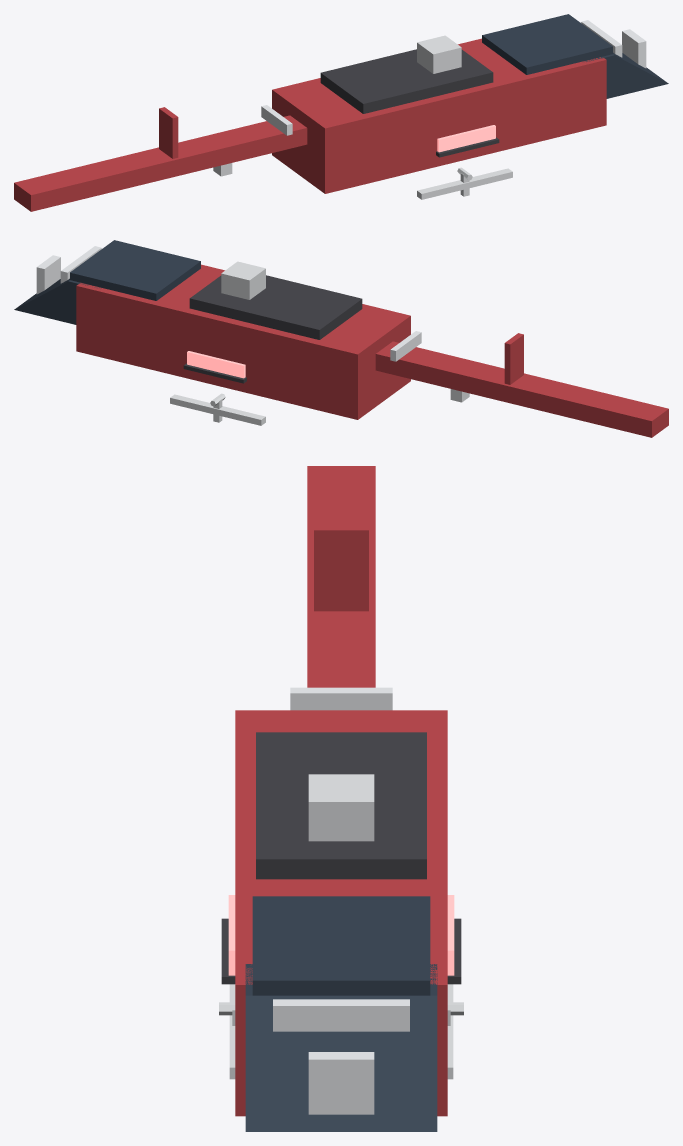
The model's file is SM_Veh_PoliceHeli.fbx.
The picture shows the model from 3 angles, top to bottom: view 1: azimuth 30°, elevation 25°; view 2: azimuth 150°, elevation 25°; view 3: azimuth 270°, elevation 25°; orthographic projection. The views are drawn at different scales.
Parts seen in each view (by area): view 1: SM_Veh_PoliceHeli; view 2: SM_Veh_PoliceHeli; view 3: SM_Veh_PoliceHeli.
Part boxes in pixels (x1,y1,x2,y2): SM_Veh_PoliceHeli: [14, 14, 668, 211]; SM_Veh_PoliceHeli: [14, 240, 668, 437]; SM_Veh_PoliceHeli: [219, 466, 463, 1131].
Bounding box in the file's own units: 1093 × 186 × 220.
